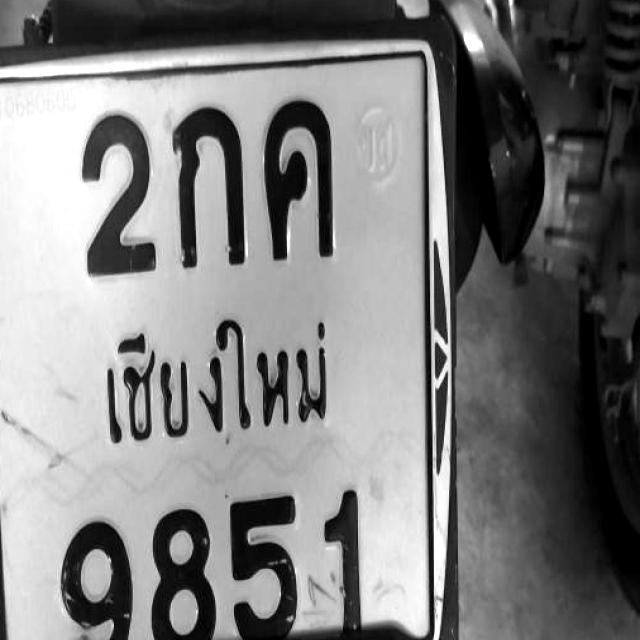letters: (172, 105, 256, 266), (83, 105, 163, 271), (219, 494, 306, 640), (266, 100, 344, 257), (46, 512, 134, 640), (144, 512, 226, 640), (319, 480, 382, 640)
license-plate: (0, 38, 440, 640)
province: (80, 322, 362, 459)
